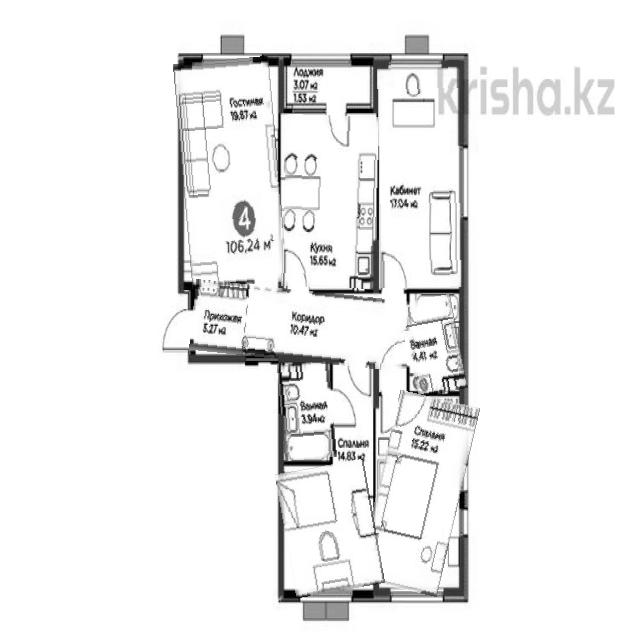balcony: (285, 56, 373, 108)
bathroom: (406, 296, 464, 396), (279, 362, 335, 460)
hallway: (191, 285, 408, 366)
kitchen: (283, 115, 378, 288)
living_room: (178, 58, 284, 288), (367, 394, 470, 594), (378, 61, 463, 288), (280, 462, 380, 595)
